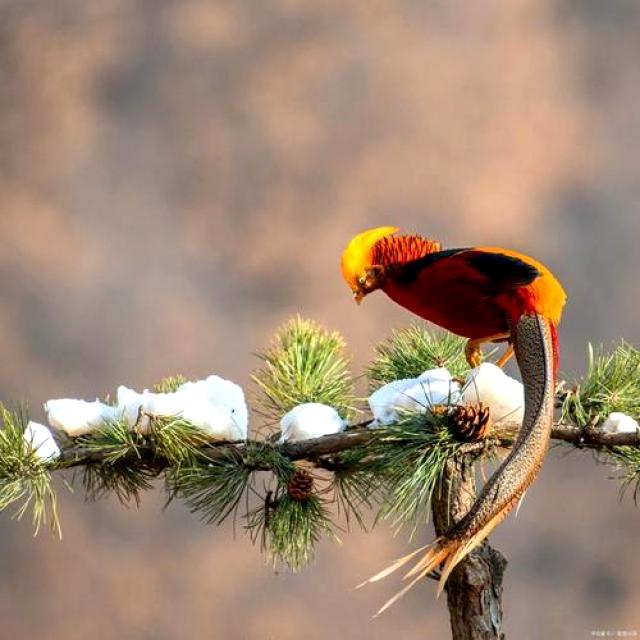Chrysolophus pictus feather: (356, 315, 558, 621)
